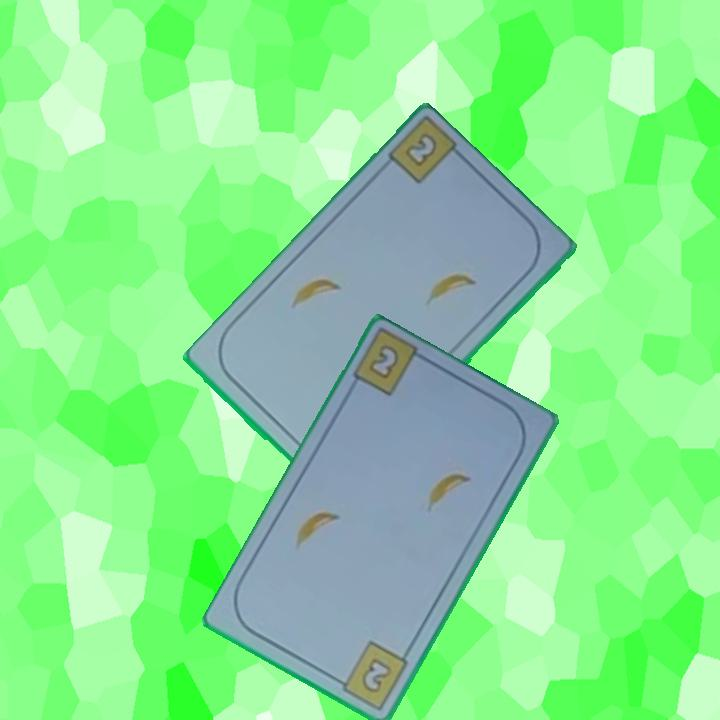2b: (329, 637, 412, 713), (401, 129, 441, 171), (365, 341, 402, 383)
